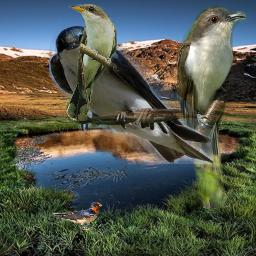Cuckoo: (177, 1, 246, 208), (66, 4, 117, 121)
Swallow: (49, 26, 213, 164), (53, 202, 102, 230)
